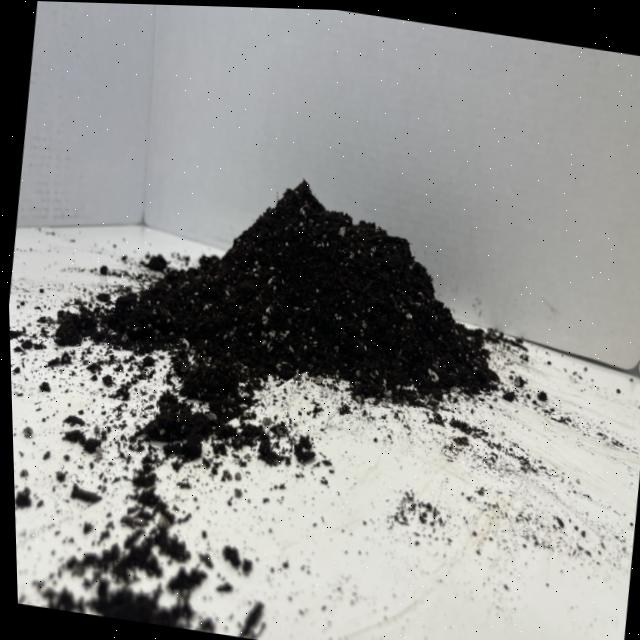soil: (34, 139, 526, 503)
